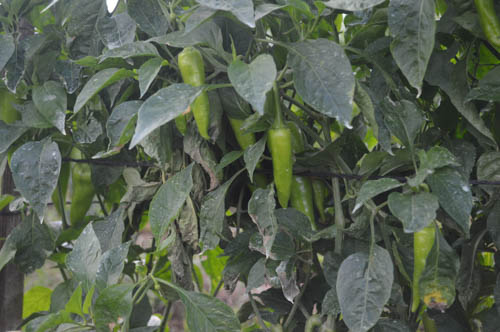ChiliPepper: (405, 226, 439, 314), (179, 49, 206, 136), (268, 129, 289, 213), (66, 167, 94, 228), (290, 173, 313, 226), (231, 116, 257, 150)
